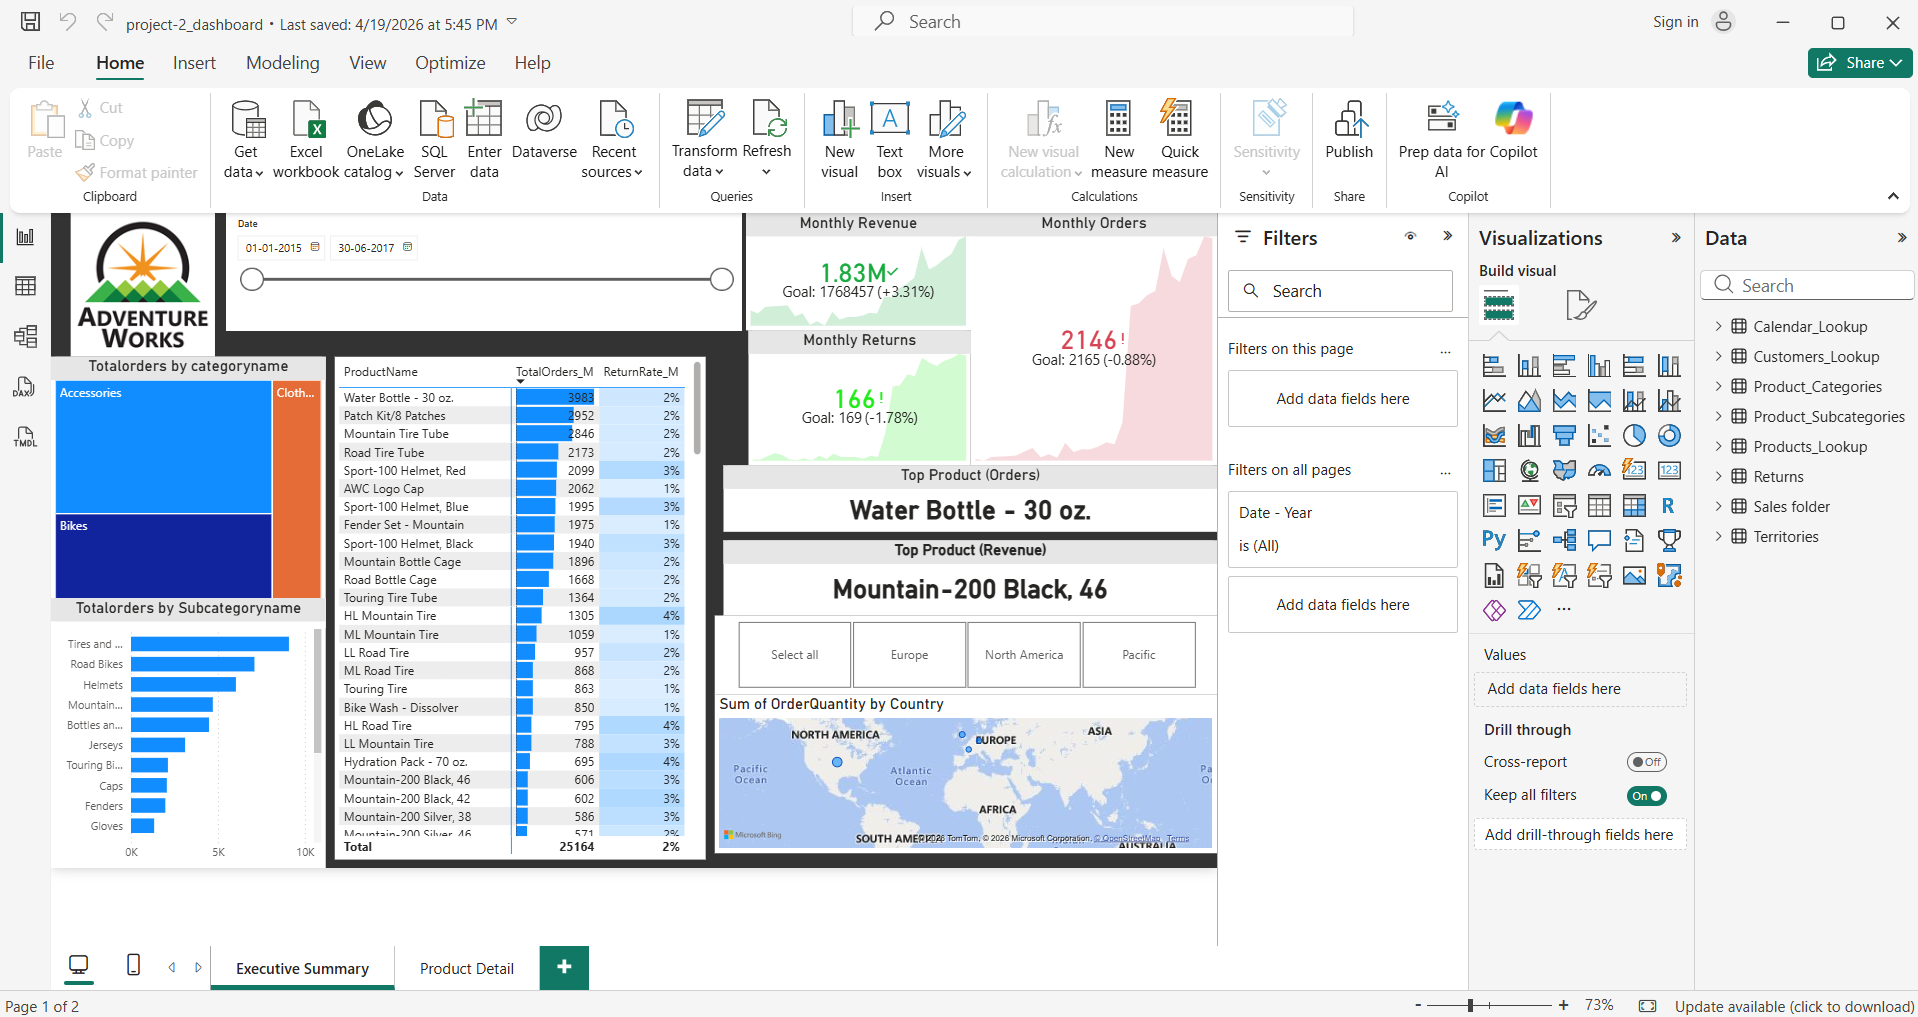

The page's visual inventory and layout, read from the dashboard file:
{"tool":"powerbi","page":{"name":"Executive Summary","canvas":[1280,720],"ordinal":0},"visuals":[{"type":"image","box":[9.6,0,182.5,157.8],"z":0},{"type":"treemap","title":"Totalorders by categoryname","fields":{"Group":["Product_Categories.CategoryName"],"Values":["Sales folder.TotalOrders_M"]},"box":[0,157.8,301.9,297.8],"z":1000},{"type":"barChart","title":"Totalorders by Subcategoryname","fields":{"Y":["Sales folder.TotalOrders_M"],"Category":["Product_Subcategories.SubcategoryName"]},"box":[0,422.6,301.9,297.8],"z":2000},{"type":"pivotTable","fields":{"Rows":["Products_Lookup.ProductName"],"Values":["Sales folder.TotalOrders_M","Returns.ReturnRate_M"]},"box":[311.5,157.8,407.5,551.6],"z":3000},{"type":"kpi","title":"Monthly Revenue","fields":{"Indicator":["Sales folder.TotalRevenue_M"],"TrendLine":["Calendar_Lookup.Start of Month"],"Goal":["Sales folder.Prevmonthorders_M"]},"box":[763,0,247,129],"z":4000},{"type":"kpi","title":"Monthly Orders","fields":{"Indicator":["Sales folder.TotalOrders_M"],"Goal":["Sales folder.Prevmonthorder_M"],"TrendLine":["Calendar_Lookup.Start of Month"]},"box":[1010,0,270.3,277.2],"z":5000},{"type":"kpi","title":"Monthly Returns","fields":{"Indicator":["Returns.TotalReturns_M"],"TrendLine":["Calendar_Lookup.Start of Month"],"Goal":["Returns.PrevMonthreturns_M"]},"box":[765.7,129,244.3,148.2],"z":6000},{"type":"card","title":"Top Product (Orders)","fields":{"Values":["Min(Products_Lookup.ProductName)"]},"box":[738.3,277.2,542,72.7],"z":7000},{"type":"card","title":"Top Product (Revenue)","fields":{"Values":["Min(Products_Lookup.ProductName)"]},"box":[738.3,359.5,542,82.3],"z":8000},{"type":"slicer","fields":{"Values":["Territories.Continent"]},"box":[728.6,441.9,551.6,86.4],"z":9000},{"type":"slicer","fields":{"Values":["Calendar_Lookup.Date"]},"box":[192.1,0,565.4,129],"z":10000},{"type":"map","fields":{"Category":["Territories.Country"],"Size":["Sum(Sales folder.OrderQuantity)"]},"box":[729,528,551,174],"z":11000}]}

Visuals, with their boxes on the page's 1280x720 design canvas (x1, y1, x2, y2). These are canvas units, not pixel positions in the 1918x1017 screenshot, which may show the page scaled, cropped or inside an application window:
image: (left=10, top=0, right=192, bottom=158)
"Totalorders by categoryname" treemap: (left=0, top=158, right=302, bottom=456)
"Totalorders by Subcategoryname" barChart: (left=0, top=423, right=302, bottom=720)
pivotTable - Products_Lookup.ProductName x Sales folder.TotalOrders_M: (left=312, top=158, right=719, bottom=709)
"Monthly Revenue" kpi: (left=763, top=0, right=1010, bottom=129)
"Monthly Orders" kpi: (left=1010, top=0, right=1280, bottom=277)
"Monthly Returns" kpi: (left=766, top=129, right=1010, bottom=277)
"Top Product (Orders)" card: (left=738, top=277, right=1280, bottom=350)
"Top Product (Revenue)" card: (left=738, top=360, right=1280, bottom=442)
slicer - Territories.Continent: (left=729, top=442, right=1280, bottom=528)
slicer - Calendar_Lookup.Date: (left=192, top=0, right=758, bottom=129)
map - Territories.Country x Sum(Sales folder.OrderQuantity): (left=729, top=528, right=1280, bottom=702)
